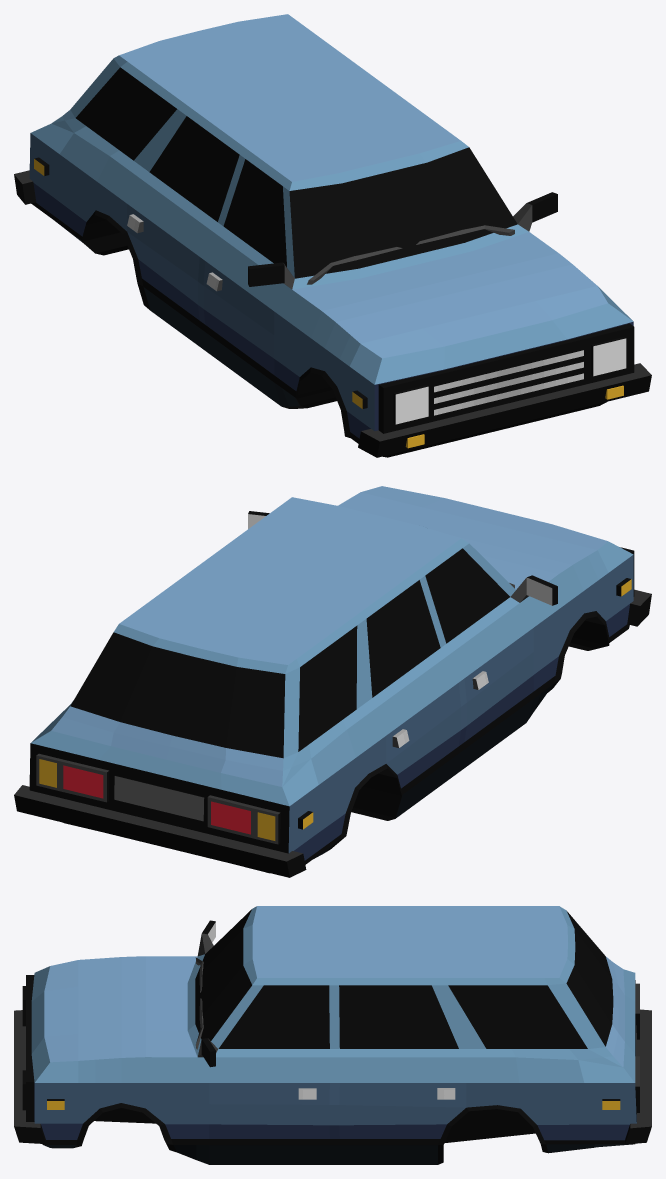
The model's file is StationWagon.002.fbx.
3 renders of one model, top to bottom at view 1: azimuth 30°, elevation 25°; view 2: azimuth 150°, elevation 25°; view 3: azimuth 270°, elevation 25°, orthographic. The views are drawn at different scales.
Visible parts, largest first — view 1: StationWagon.002; view 2: StationWagon.002; view 3: StationWagon.002.
Boxes of the visible parts, x1,y1,x2,y2 form: StationWagon.002: (14, 14, 651, 457); StationWagon.002: (14, 486, 651, 877); StationWagon.002: (14, 906, 651, 1164).
Size of the model in its own units: 1.84 by 1.14 by 3.78.
